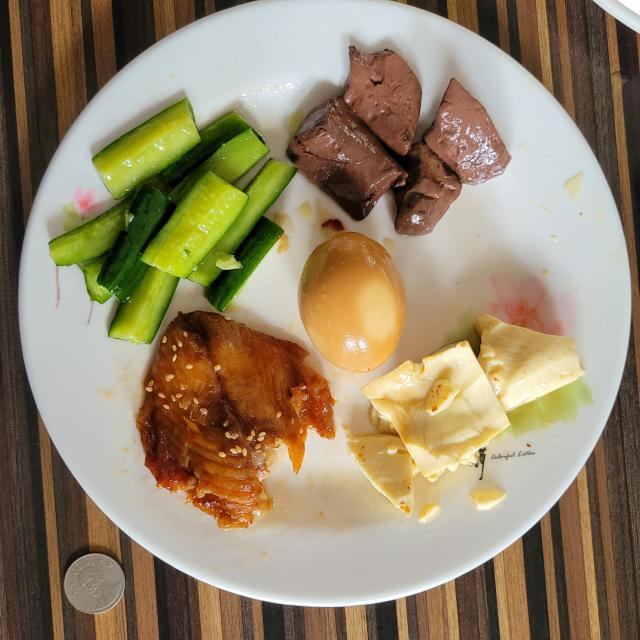Kabayaki sea bream fillet: (136, 311, 334, 529)
coin: (64, 554, 125, 614)
cucumber: (49, 99, 296, 344)
pig blood curd: (288, 46, 510, 236)
soy egg: (299, 231, 406, 372)
